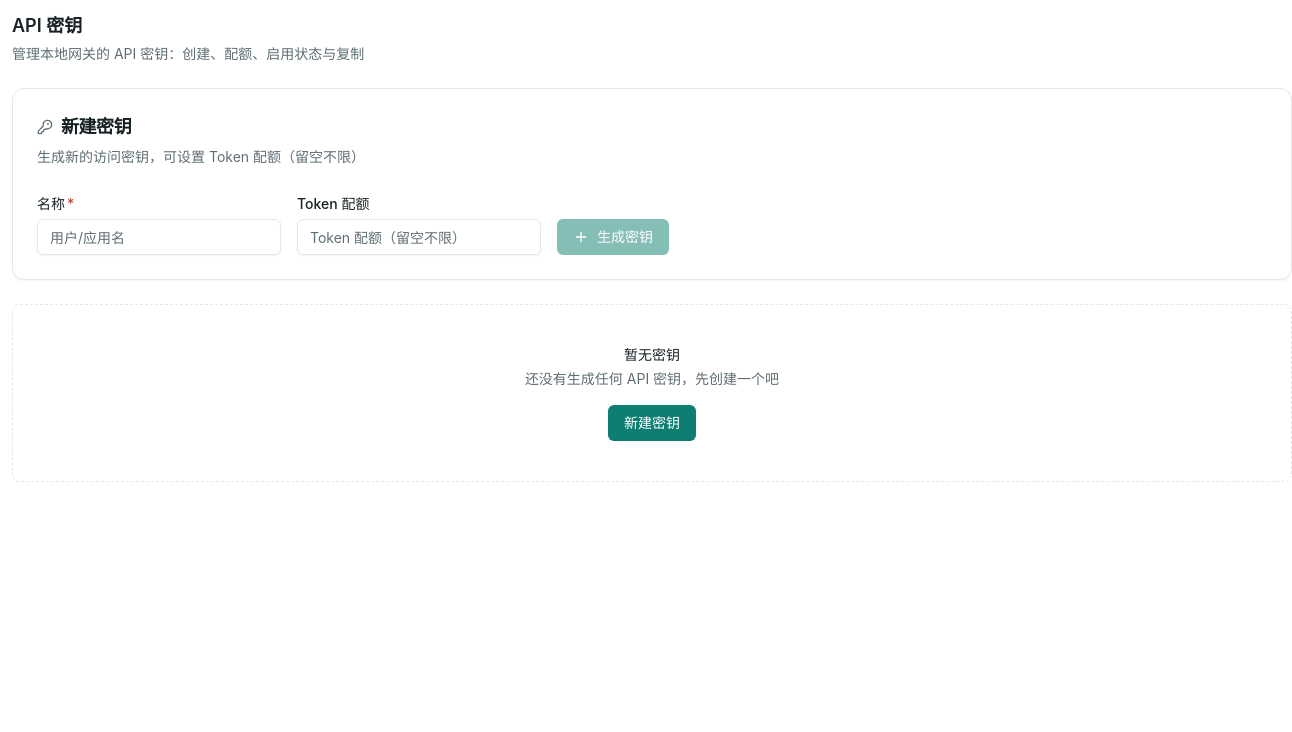
ApiKeysPage 生成密钥 › 创建卡 pristine 生成密钥禁用无行内错误；配额非法失焦出现行内错误仍禁用，修正后恢复
Check: the button "生成密钥" is disabled, box [557,219,669,255]
Type "my-app" into the field with placeholder "用户/应用名" at (159, 237), box [37,219,281,255]
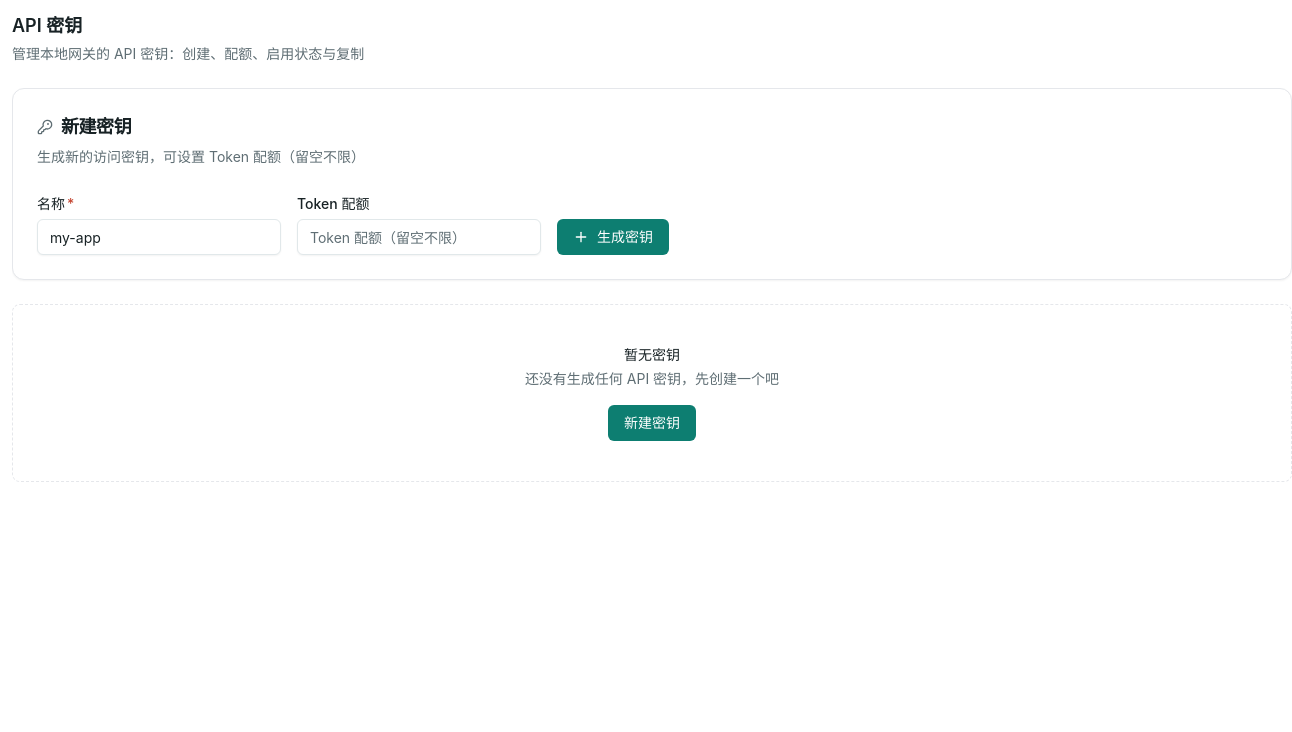
Check: the button "生成密钥" is enabled, box [557,219,669,255]
Type "-1" into the field labelled "Token 配额" at (419, 237), box [297,219,541,255]
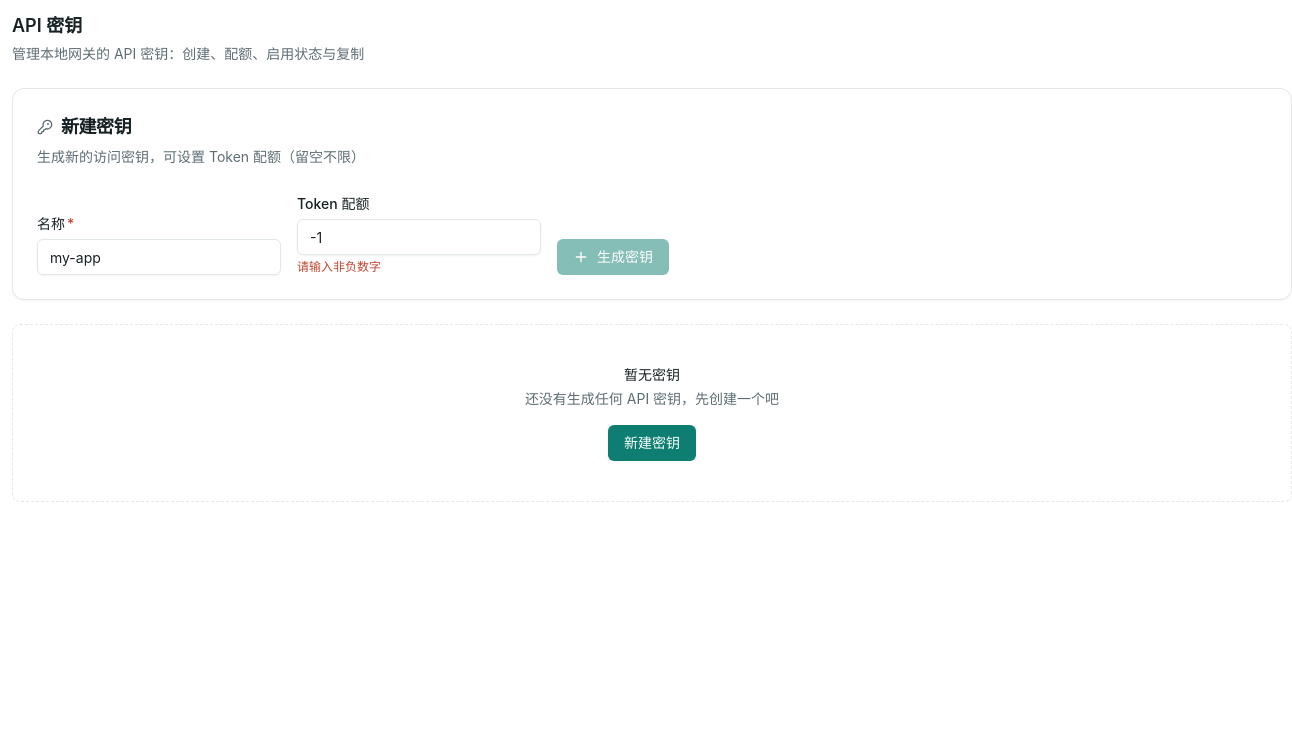
Check: the button "生成密钥" is disabled, box [557,239,669,275]
Replace the text in the field labelled "Token 配额" with "100" at (419, 237), box [297,219,541,255]
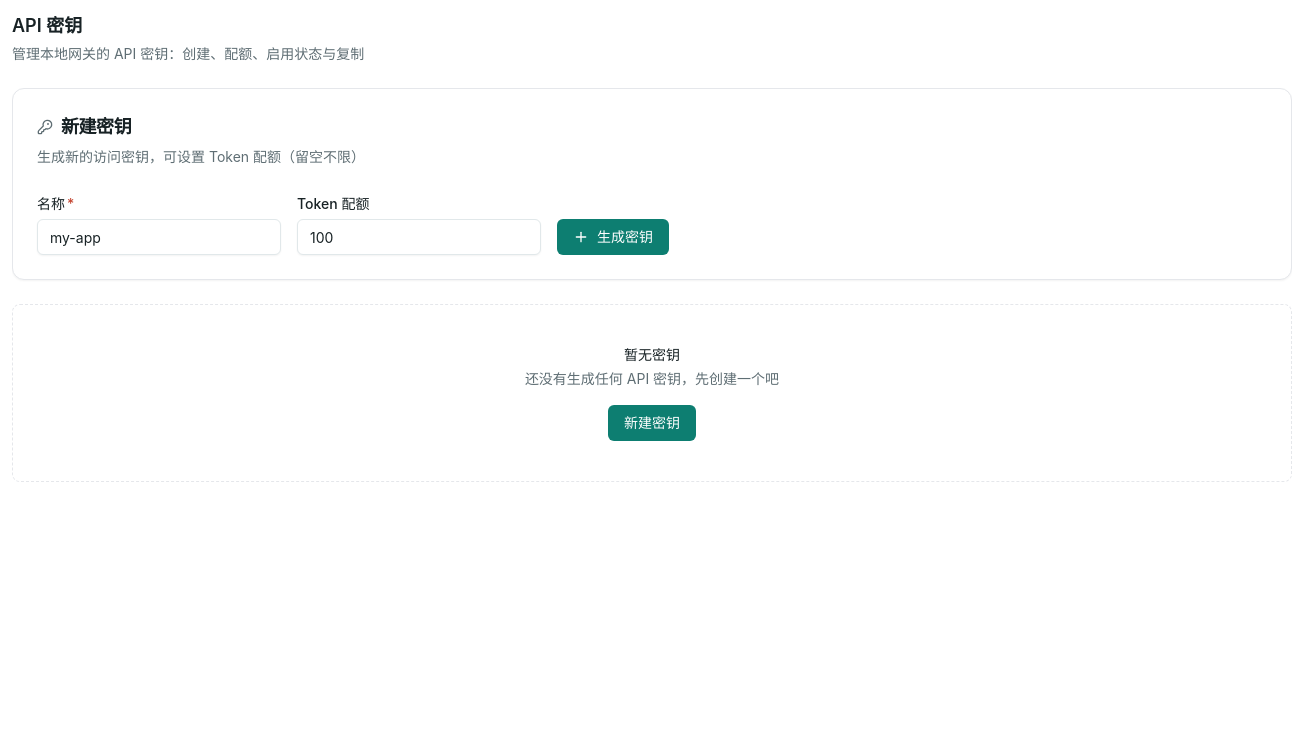
Check: the button "生成密钥" is enabled, box [557,219,669,255]
Check: the message "请输入非负数字" is gone
